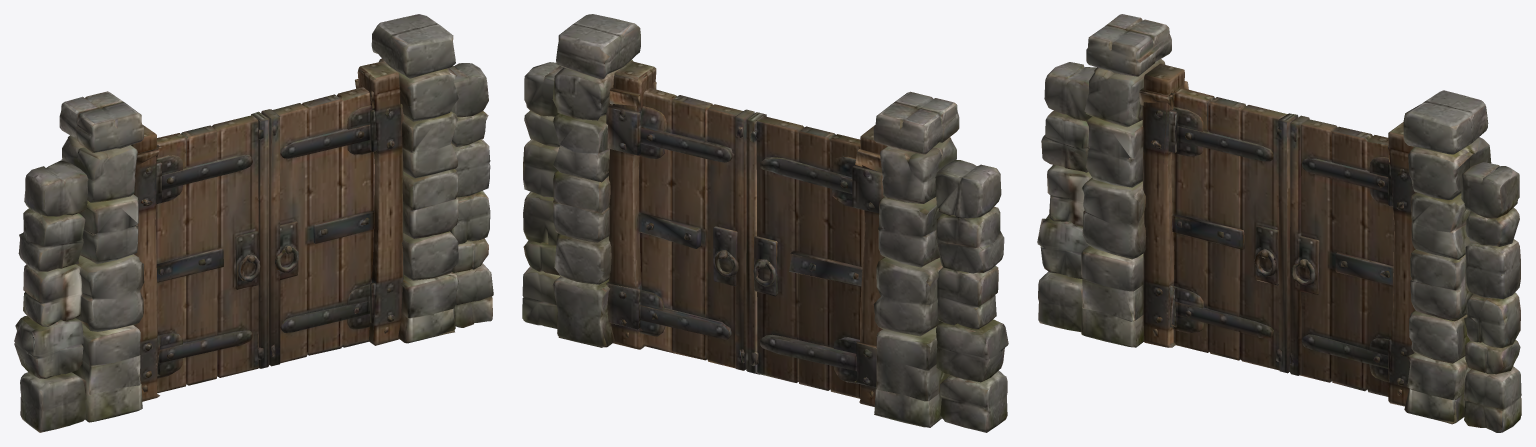
The model's file is shelter_t2_gate.glb.
3 views of the same model, side by side, from view 1: azimuth 30°, elevation 25°; view 2: azimuth 150°, elevation 25°; view 3: azimuth 330°, elevation 25° (orthographic).
Size of the model in its own units: 0.3433 by 0.2144 by 0.0484.
Materials: 1 (1 with a texture image).
